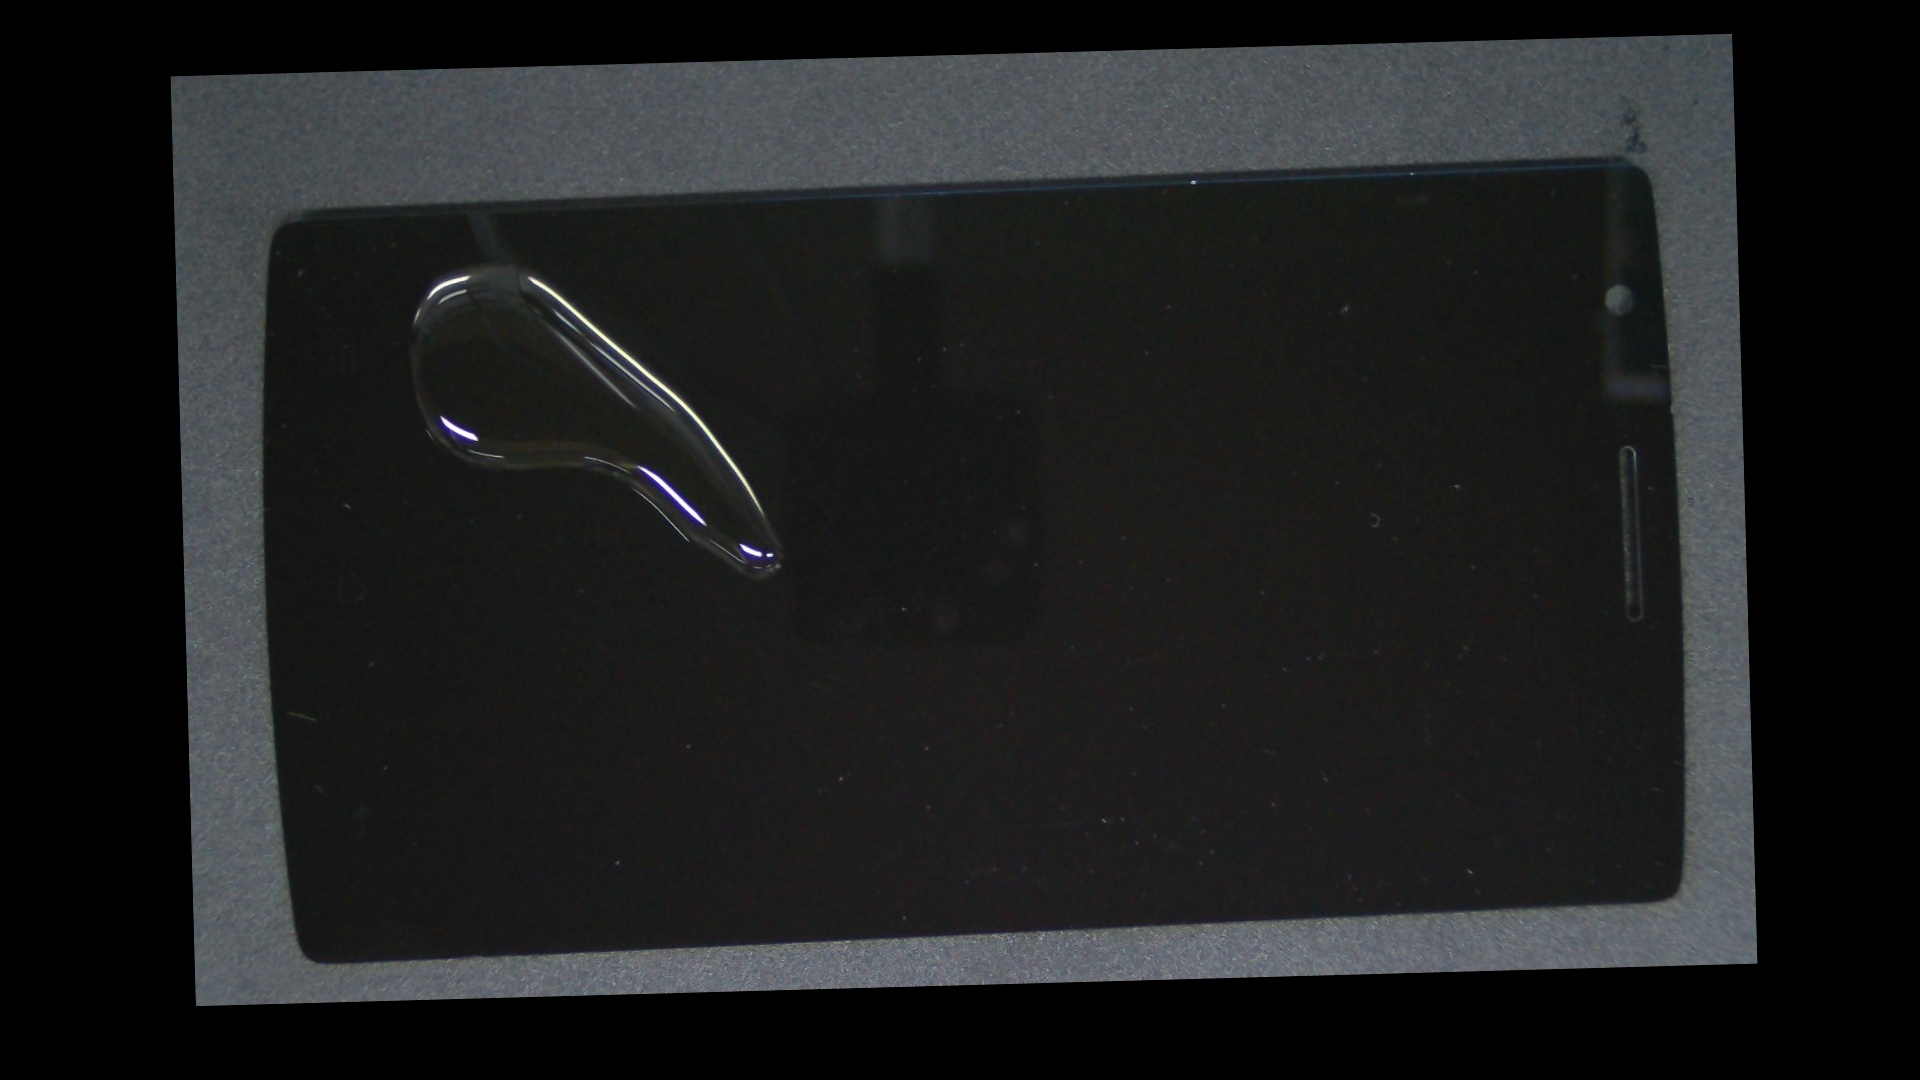oil: (326, 161, 633, 363)
